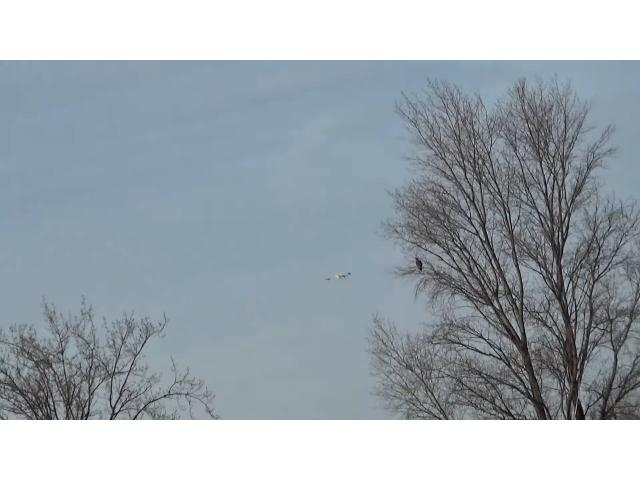Anti-Drone: (324, 273, 350, 281)
